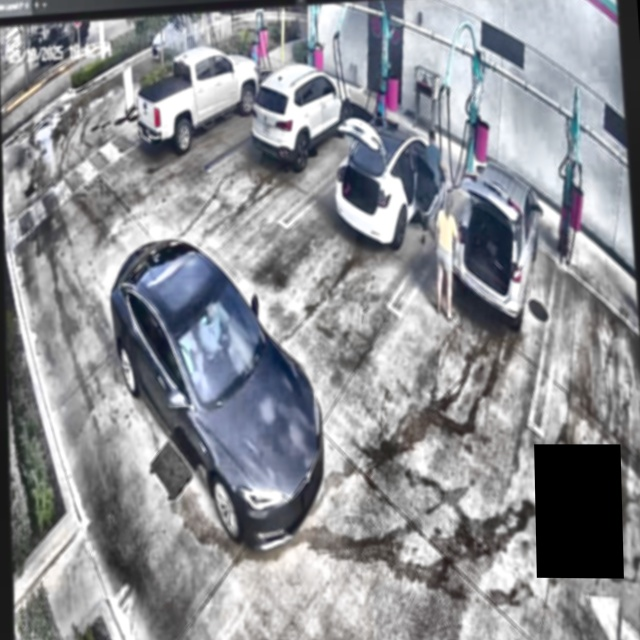Car: (101, 213, 328, 562), (449, 154, 547, 333), (330, 114, 448, 261), (249, 60, 351, 173)
